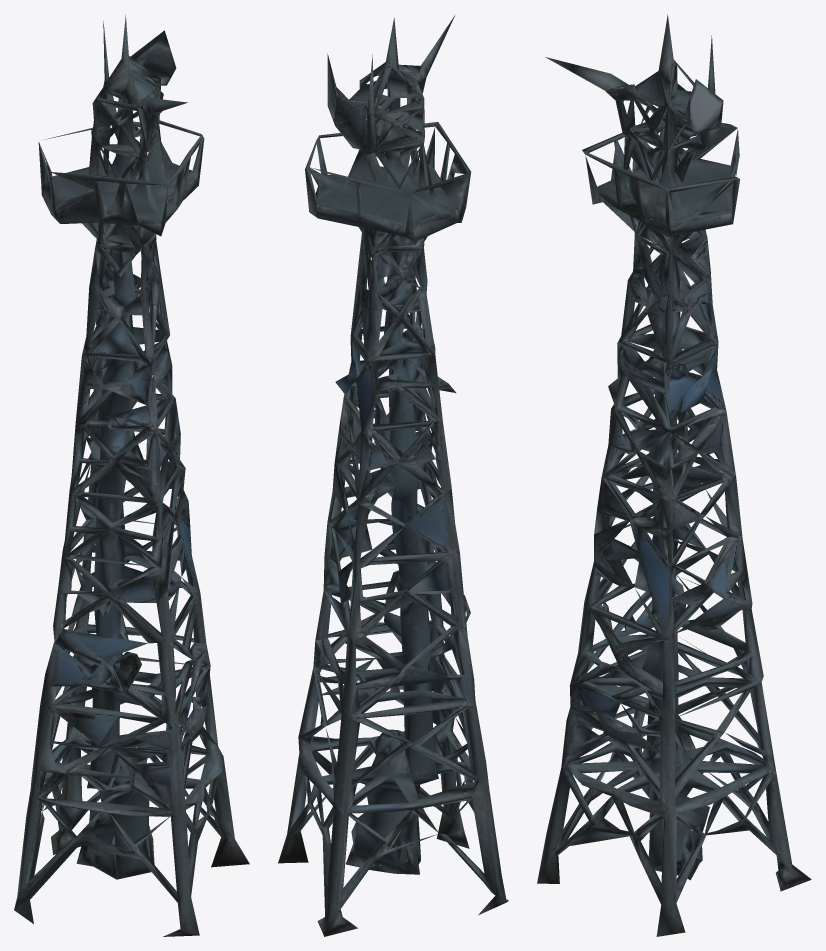
The model's file is antenna_mast.raw.glb.
3 renders of one model, left to right at view 1: azimuth 30°, elevation 25°; view 2: azimuth 150°, elevation 25°; view 3: azimuth 270°, elevation 25°, orthographic.
Visible parts, largest first — view 1: tripo_node_597f628c-e791-48df-97b5-32c4b813254a; view 2: tripo_node_597f628c-e791-48df-97b5-32c4b813254a; view 3: tripo_node_597f628c-e791-48df-97b5-32c4b813254a.
Boxes of the visible parts, x1=… form: tripo_node_597f628c-e791-48df-97b5-32c4b813254a: x1=14, y1=14, x2=249, y2=936; tripo_node_597f628c-e791-48df-97b5-32c4b813254a: x1=278, y1=15, x2=508, y2=936; tripo_node_597f628c-e791-48df-97b5-32c4b813254a: x1=537, y1=14, x2=811, y2=936.
Size of the model in its own units: 0.276 by 1 by 0.2872.
Materials: 1 (1 with a texture image).
